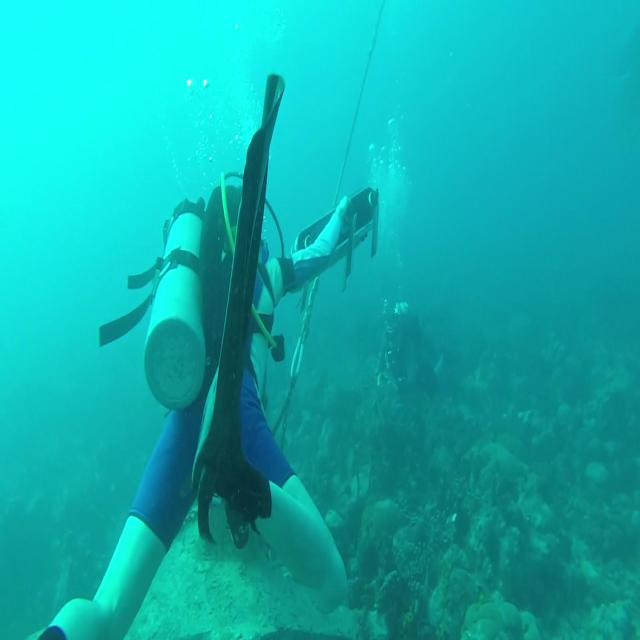human: (32, 73, 379, 638)
